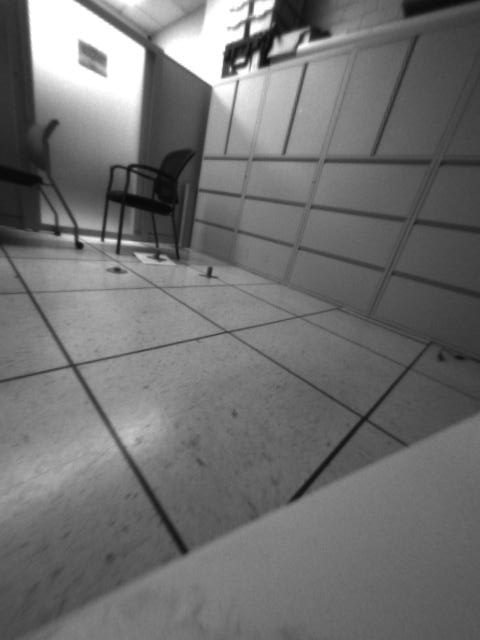X: (196, 264, 219, 280), (148, 247, 166, 262)
